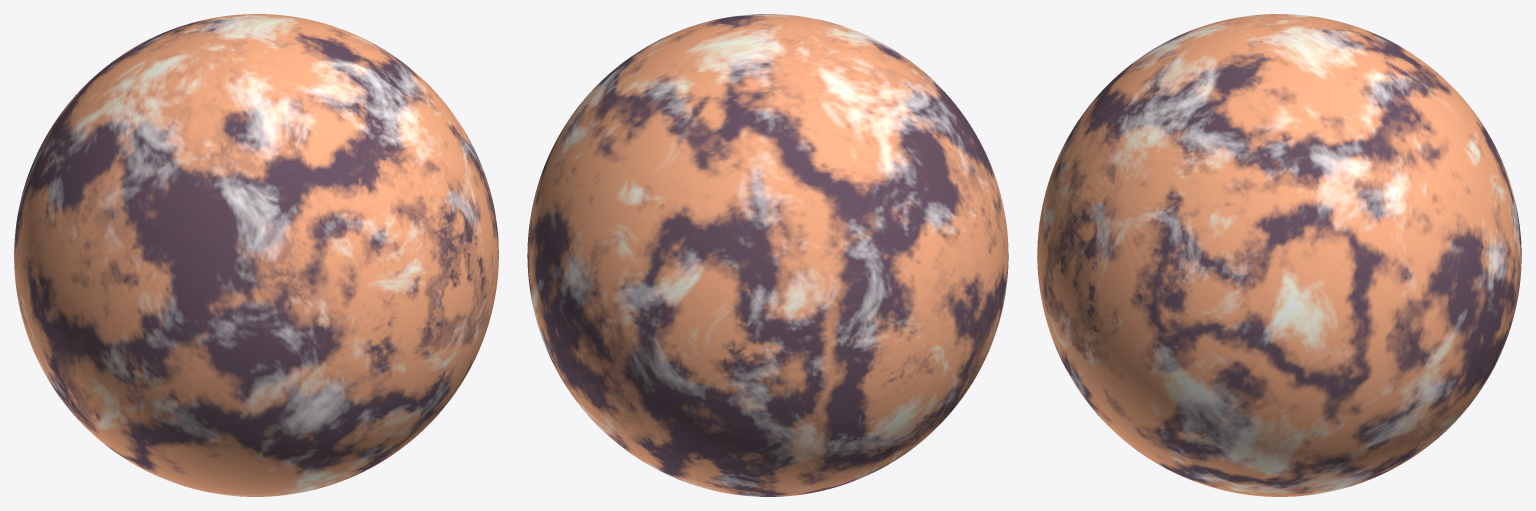
File: tattooine-drago-512.glb
3 views of the same model, side by side, from view 1: azimuth 30°, elevation 25°; view 2: azimuth 150°, elevation 25°; view 3: azimuth 270°, elevation 25° (orthographic).
Visible parts, largest first — view 1: Tatooine; view 2: Tatooine; view 3: Tatooine.
Boxes of the visible parts, x1=… form: Tatooine: x1=14, y1=14, x2=498, y2=496; Tatooine: x1=527, y1=14, x2=1008, y2=496; Tatooine: x1=1037, y1=14, x2=1521, y2=496.
Size of the model in its own units: 1.98 by 1.98 by 1.98.
Materials: 1 (1 with a texture image).
